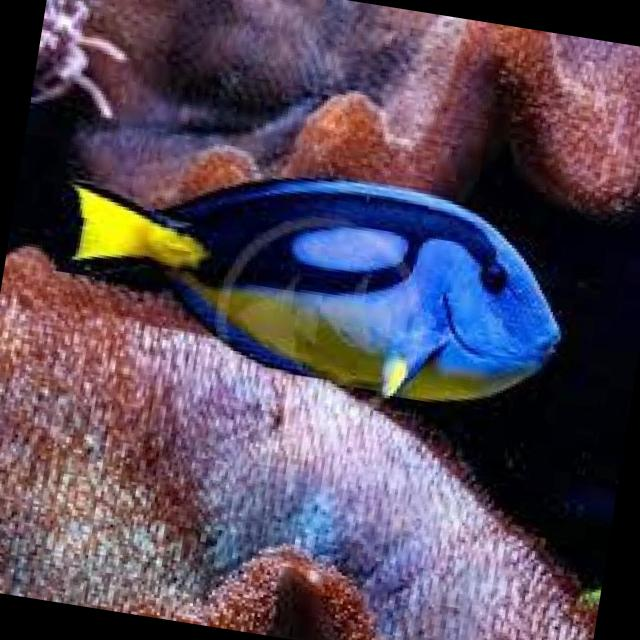TangFish: (49, 128, 580, 431)
